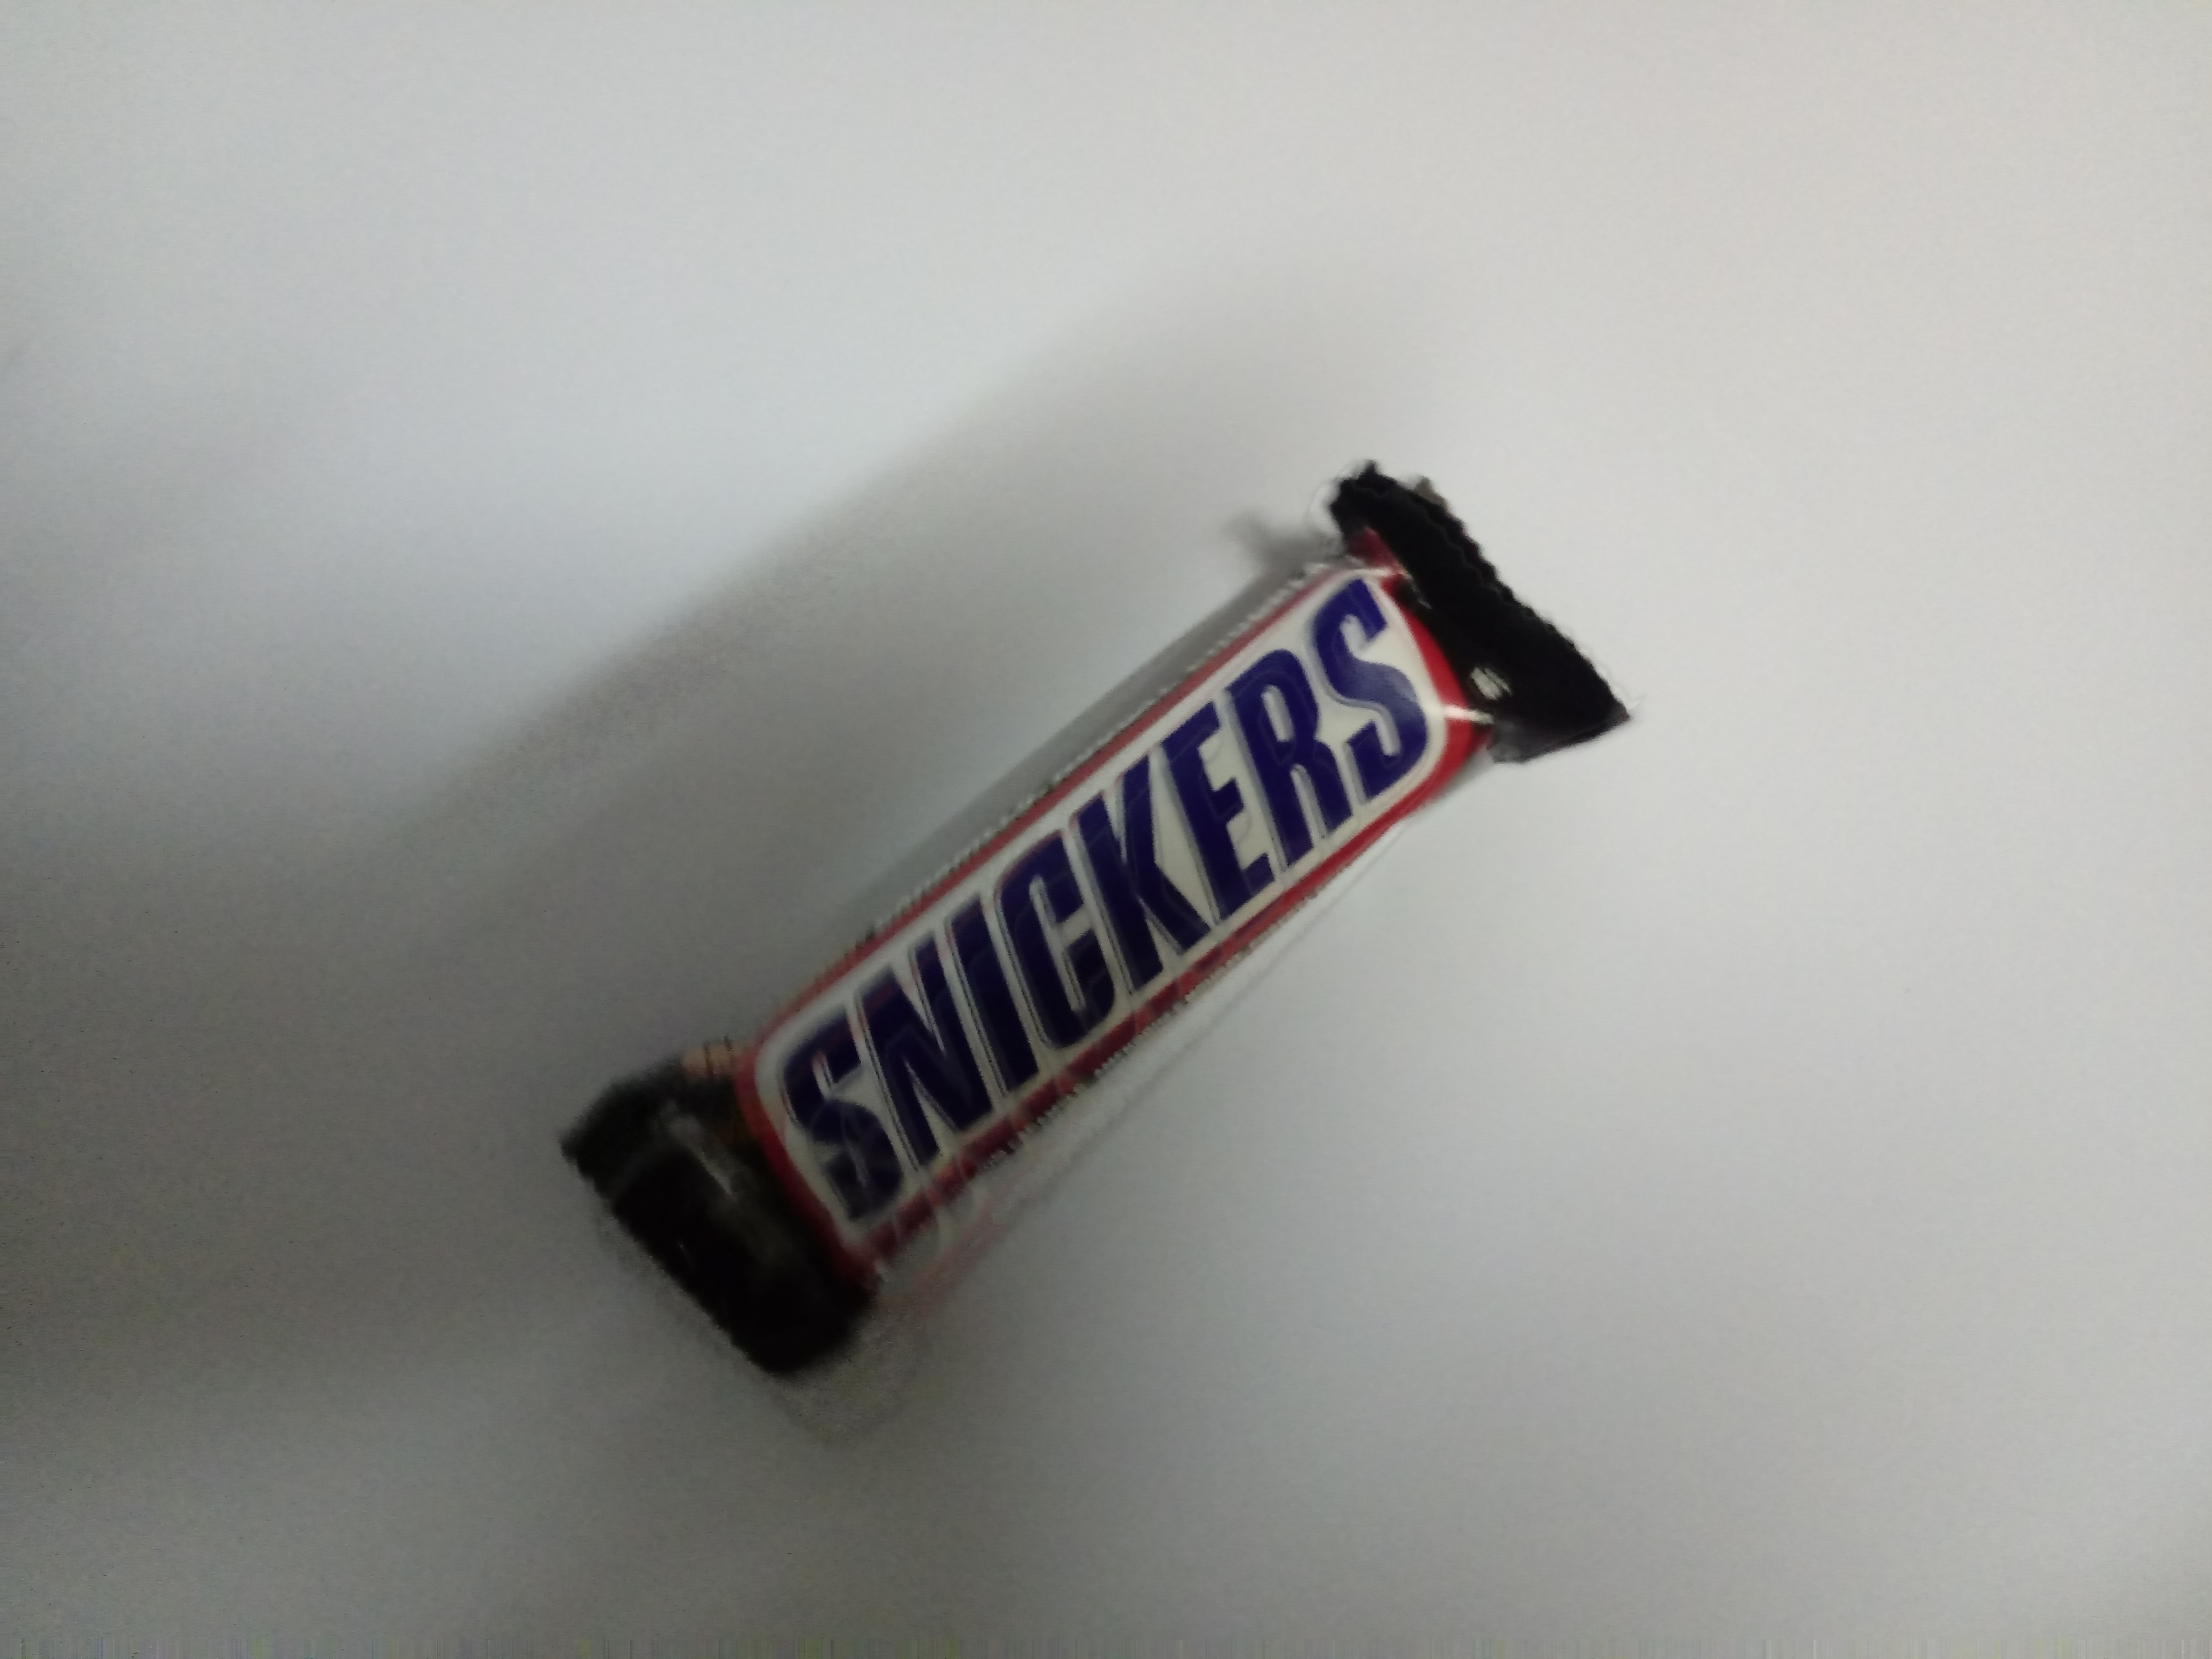snickers: (549, 437, 1653, 1415)
